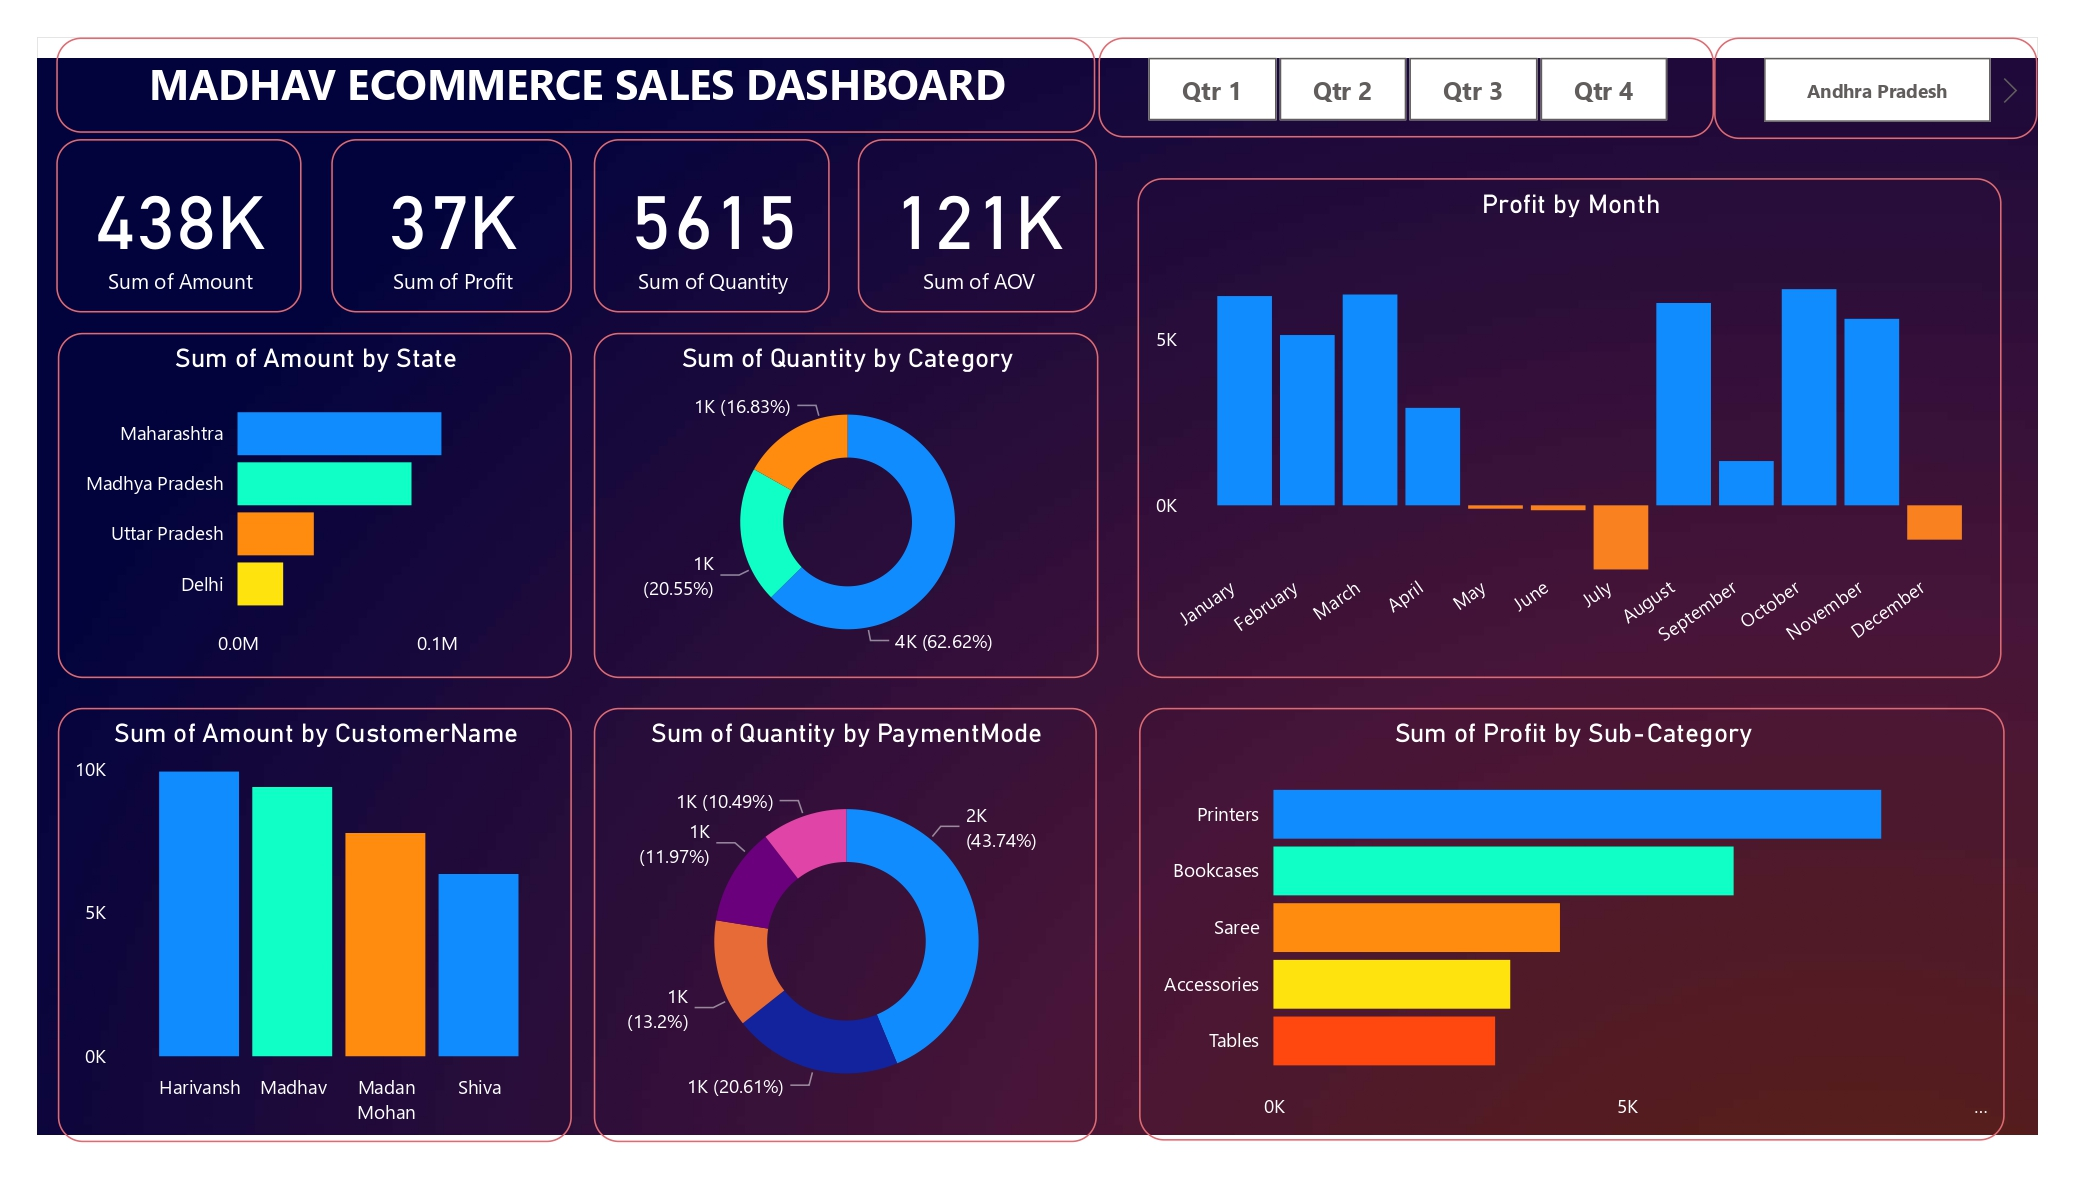

The page's visual inventory and layout, read from the dashboard file:
{"tool":"powerbi","page":{"name":"Page 1","canvas":[1280,720],"ordinal":0},"visuals":[{"type":"columnChart","title":"Profit by Month","fields":{"Category":["Orders.Order Date.Variation.Date Hierarchy.Month"],"Y":["Details.Profit"]},"box":[704,90.2,552.7,320],"z":0},{"type":"textbox","box":[12.2,0,664.4,61],"z":1000},{"type":"barChart","fields":{"Category":["Details.Sub-Category"],"Y":["Details.Profit"]},"box":[704.5,429,554.6,277.3],"z":2000},{"type":"donutChart","fields":{"Category":["Details.Category"],"Y":["Details.Quantity"]},"box":[356.4,189.1,322.9,221.1],"z":3000},{"type":"donutChart","fields":{"Y":["Details.Quantity"],"Category":["Details.PaymentMode"]},"box":[356.4,429.1,321.5,277.8],"z":4000},{"type":"card","fields":{"Values":["Details.Amount"]},"box":[12.2,64.5,156.9,111.6],"z":5000},{"type":"card","fields":{"Values":["Details.Quantity"]},"box":[355.7,64.5,151.7,111.6],"z":6000},{"type":"card","fields":{"Values":["Details.Profit"]},"box":[188.3,64.5,153.5,111.6],"z":7000},{"type":"card","fields":{"Values":["Details.AOV"]},"box":[524.9,64.5,153.5,111.6],"z":8000},{"type":"barChart","fields":{"Category":["Orders.State"],"Y":["Details.Amount"]},"box":[13.1,189.1,328.7,221.1],"z":9000},{"type":"columnChart","fields":{"Category":["Orders.CustomerName"],"Y":["Details.Amount"]},"box":[13,429,329,278],"z":10000},{"type":"slicer","fields":{"Values":["Orders.Order Date.Variation.Date Hierarchy.Quarter"]},"box":[679.3,0,394.2,64],"z":11000},{"type":"slicer","fields":{"Values":["Orders.State"]},"box":[1073.5,0,206.5,65.5],"z":12000}]}

Visuals, with their boxes on the page's 1280x720 design canvas (x1, y1, x2, y2). These are canvas units, not pixel positions in the 2075x1200 screenshot, which may show the page scaled, cropped or inside an application window:
"Profit by Month" columnChart: box(704, 90, 1257, 410)
textbox: box(12, 0, 677, 61)
barChart - Details.Sub-Category x Details.Profit: box(704, 429, 1259, 706)
donutChart - Details.Category x Details.Quantity: box(356, 189, 679, 410)
donutChart - Details.Quantity x Details.PaymentMode: box(356, 429, 678, 707)
card - Details.Amount: box(12, 64, 169, 176)
card - Details.Quantity: box(356, 64, 507, 176)
card - Details.Profit: box(188, 64, 342, 176)
card - Details.AOV: box(525, 64, 678, 176)
barChart - Orders.State x Details.Amount: box(13, 189, 342, 410)
columnChart - Orders.CustomerName x Details.Amount: box(13, 429, 342, 707)
slicer - Orders.Order Date.Variation.Date Hierarchy.Quarter: box(679, 0, 1074, 64)
slicer - Orders.State: box(1074, 0, 1280, 66)
